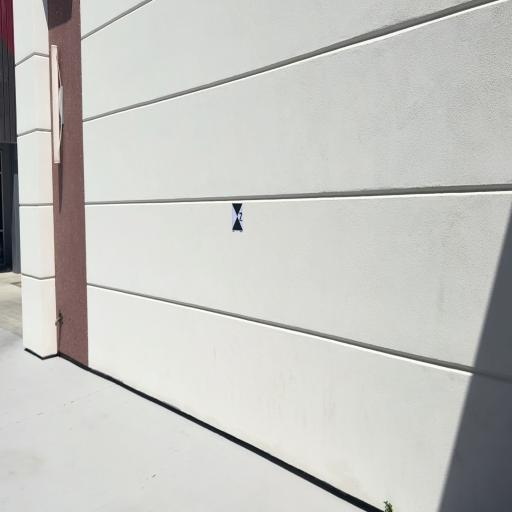target7: (232, 202, 243, 231)
